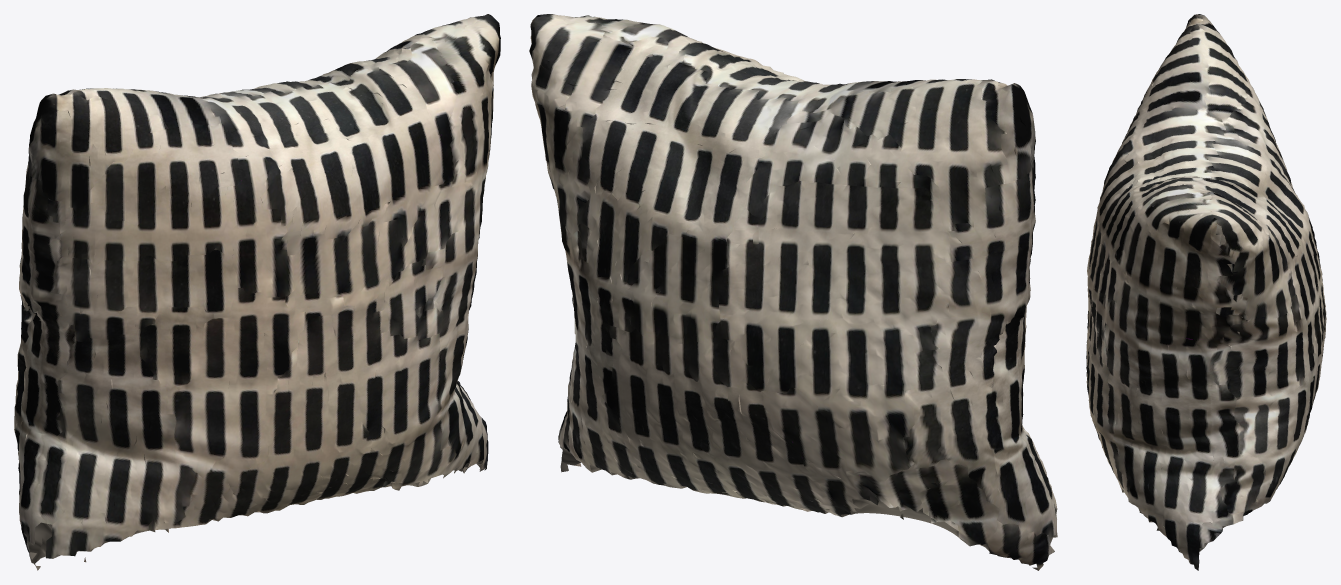
File: cushion_32684986ac45.glb
The picture shows the model from 3 angles, left to right: view 1: azimuth 30°, elevation 25°; view 2: azimuth 150°, elevation 25°; view 3: azimuth 270°, elevation 25°; orthographic projection. The views are drawn at different scales.
Parts seen in each view (by area): view 1: Object_3, Object_2; view 2: Object_3, Object_2; view 3: Object_3.
Part boxes in pixels (x1,y1,x2,y2): Object_3: (14, 14, 500, 564); Object_2: (28, 460, 486, 570); Object_3: (529, 14, 1057, 570); Object_2: (558, 441, 1057, 570); Object_3: (1086, 14, 1326, 570).
Bounding box in the file's own units: 0.5819 × 0.5491 × 0.31.
2 materials, 2 textured.
